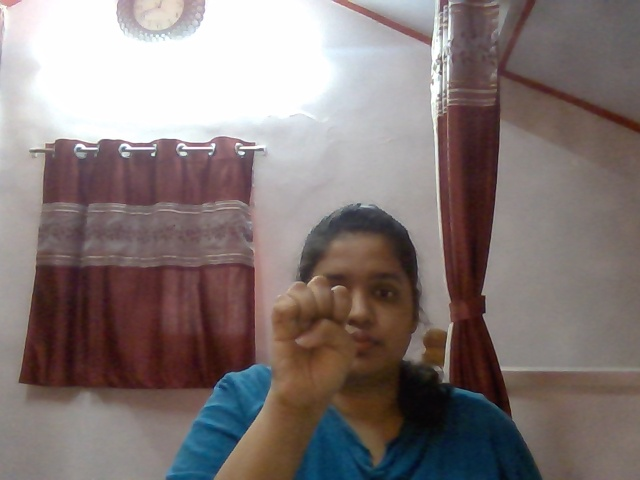s: (251, 274, 375, 417)
